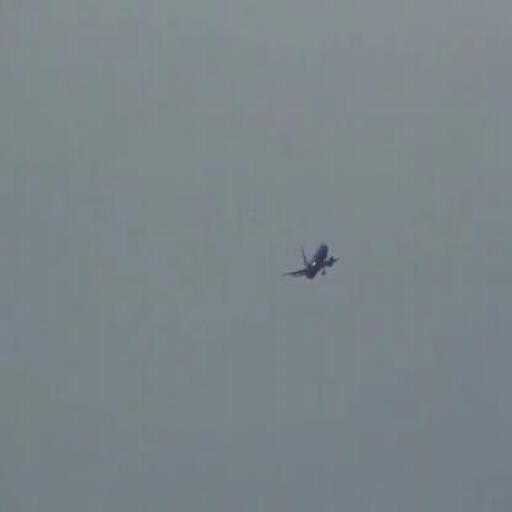aircraft: (282, 236, 342, 281)
